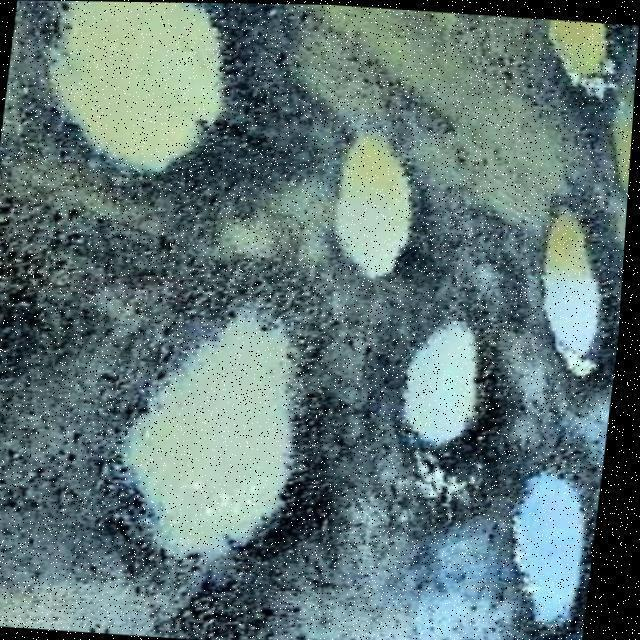Pothole: (126, 302, 306, 577), (49, 1, 236, 181), (335, 127, 424, 280), (524, 467, 597, 640), (547, 206, 614, 377), (408, 322, 486, 451), (545, 20, 624, 96), (614, 98, 635, 194)
